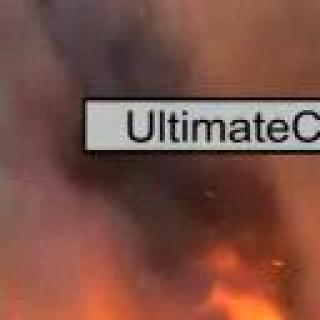fire: (0, 149, 317, 320)
